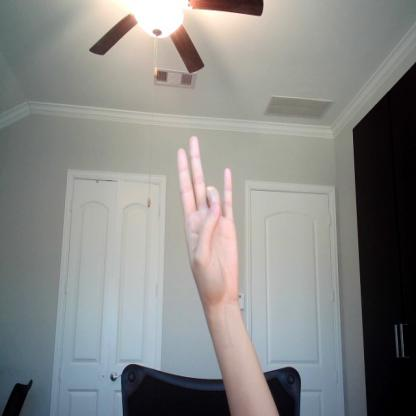seven: (174, 130, 236, 300)
